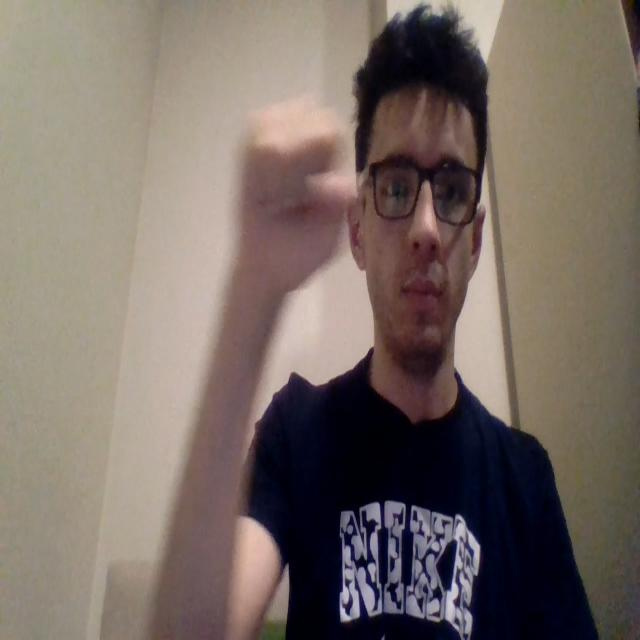yes: (235, 91, 355, 297)
